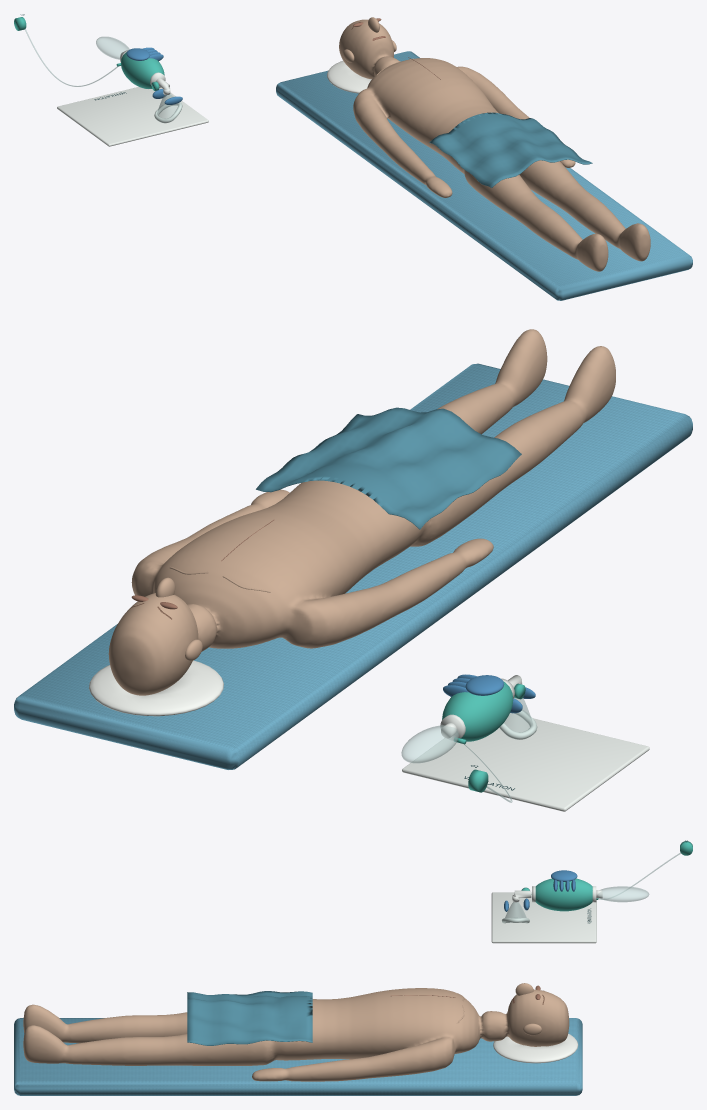
The model's file is ventilation-training.glb.
3 views of the same model, one above another, from view 1: azimuth 30°, elevation 25°; view 2: azimuth 150°, elevation 25°; view 3: azimuth 270°, elevation 25° (orthographic). The views are drawn at different scales.
Parts seen in each view (by area): view 1: Trainer | continuous silicone anatomy, Linen | fitted mattress cover, Trainer | modesty drape, Tray | low rim base, Bag | compression shell, Linen | compressed head support, Reservoir | soft bag; view 2: Trainer | continuous silicone anatomy, Linen | fitted mattress cover, Trainer | modesty drape, Tray | low rim base, Linen | compressed head support, Bag | compression shell, Reservoir | soft bag; view 3: Trainer | continuous silicone anatomy, Linen | fitted mattress cover, Trainer | modesty drape, Tray | low rim base, Bag | compression shell, Linen | compressed head support, Reservoir | soft bag.
Boxes of the visible parts, x1=… form: Trainer | continuous silicone anatomy: x1=339, y1=19, x2=650, y2=271; Linen | fitted mattress cover: x1=276, y1=51, x2=692, y2=300; Trainer | modesty drape: x1=429, y1=112, x2=592, y2=187; Tray | low rim base: x1=57, y1=87, x2=208, y2=146; Bag | compression shell: x1=121, y1=52, x2=164, y2=88; Linen | compressed head support: x1=327, y1=61, x2=371, y2=93; Reservoir | soft bag: x1=96, y1=36, x2=129, y2=59; Trainer | continuous silicone anatomy: x1=108, y1=329, x2=615, y2=695; Linen | fitted mattress cover: x1=14, y1=363, x2=692, y2=769; Trainer | modesty drape: x1=256, y1=407, x2=521, y2=529; Tray | low rim base: x1=402, y1=713, x2=649, y2=811; Linen | compressed head support: x1=89, y1=660, x2=223, y2=716; Bag | compression shell: x1=442, y1=681, x2=513, y2=741; Reservoir | soft bag: x1=401, y1=725, x2=458, y2=763; Trainer | continuous silicone anatomy: x1=23, y1=988, x2=569, y2=1081; Linen | fitted mattress cover: x1=14, y1=1018, x2=582, y2=1095; Trainer | modesty drape: x1=187, y1=991, x2=312, y2=1045; Tray | low rim base: x1=491, y1=892, x2=596, y2=943; Bag | compression shell: x1=531, y1=878, x2=592, y2=911; Linen | compressed head support: x1=493, y1=1033, x2=578, y2=1063; Reservoir | soft bag: x1=597, y1=886, x2=649, y2=902.
Size of the model in its own units: 1.43 by 0.3581 by 2.39.
12 materials, 1 textured.
